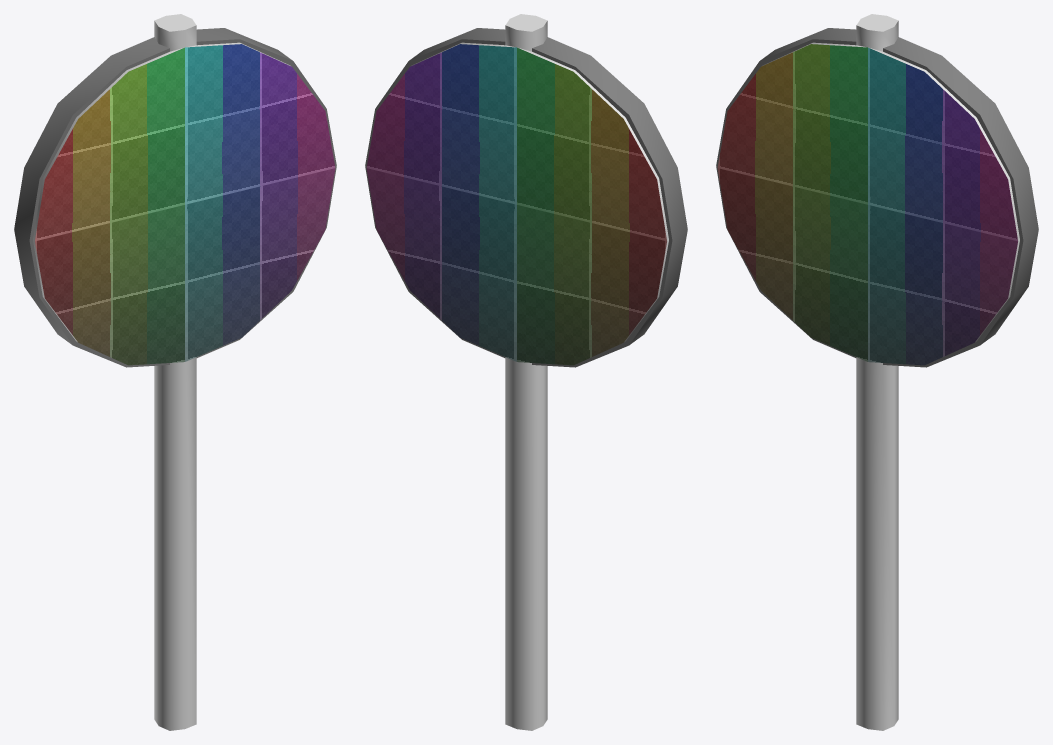
File: Target.glb
The picture shows the model from 3 angles, left to right: view 1: azimuth 30°, elevation 25°; view 2: azimuth 150°, elevation 25°; view 3: azimuth 330°, elevation 25°; orthographic projection.
Parts seen in each view (by area): view 1: CSGCylinder3D2; view 2: CSGCylinder3D2; view 3: CSGCylinder3D2.
Part boxes in pixels (x1=…): CSGCylinder3D2: x1=14, y1=14, x2=336, y2=730; CSGCylinder3D2: x1=365, y1=14, x2=687, y2=730; CSGCylinder3D2: x1=716, y1=14, x2=1038, y2=730.
Size of the model in its own units: 0.92 by 2 by 0.1.
3 materials, 1 textured.
